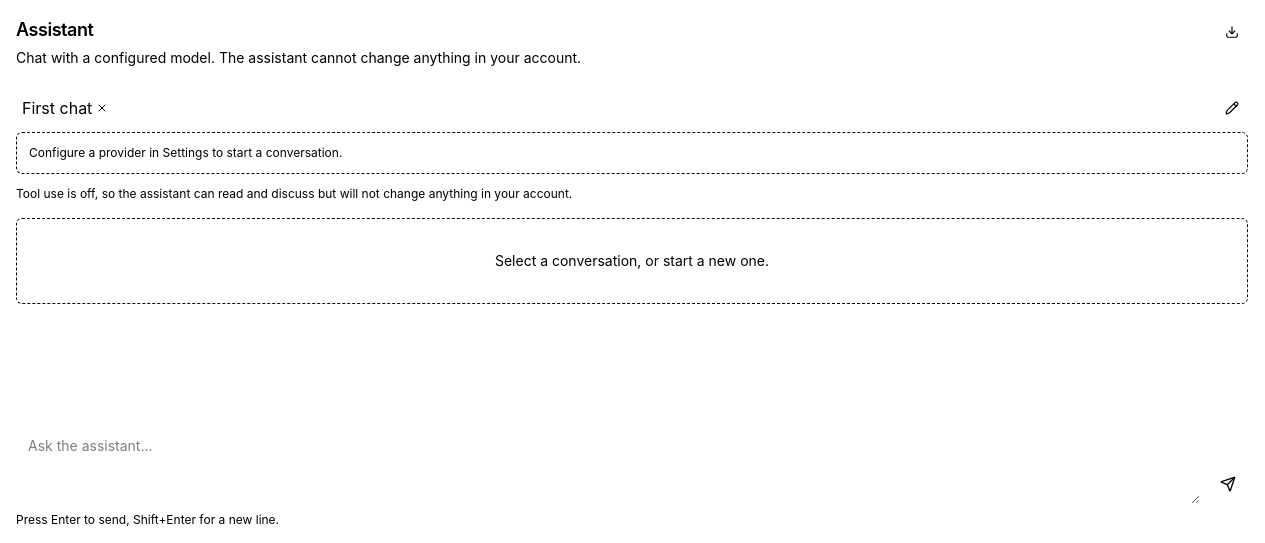
Test case: export offers the conversation as a file and reports the size ceiling
This screenshot has width=1265, height=543.
Click the button named "Export conversation". click: (1232,32)
box: [1216,16,1248,48]
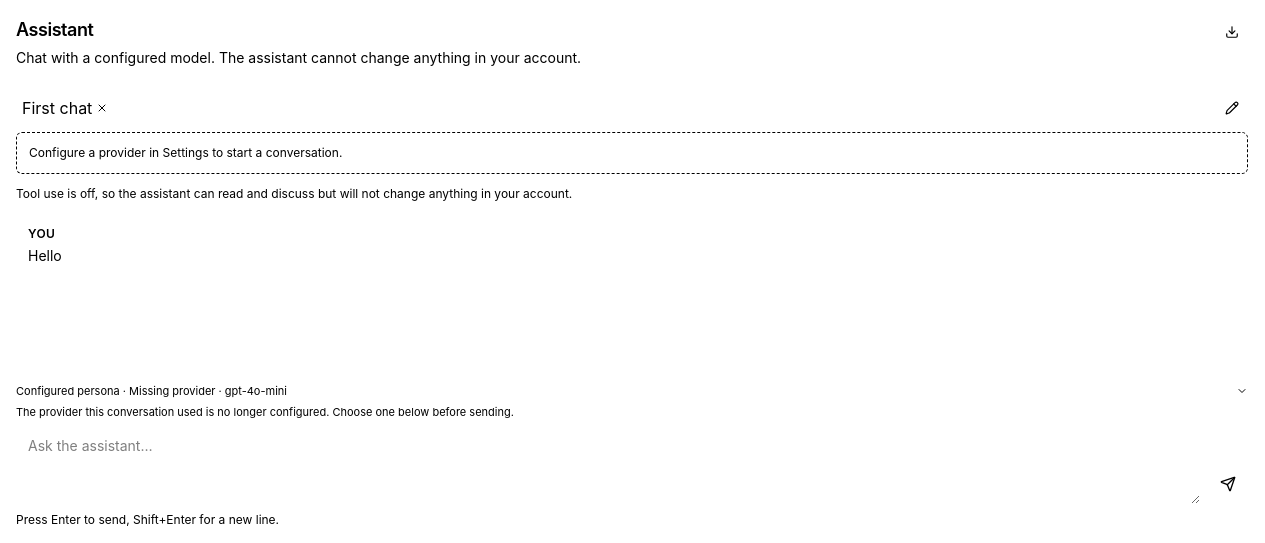
Click the button named "Export conversation". click: (1232,32)
box: [1216,16,1248,48]
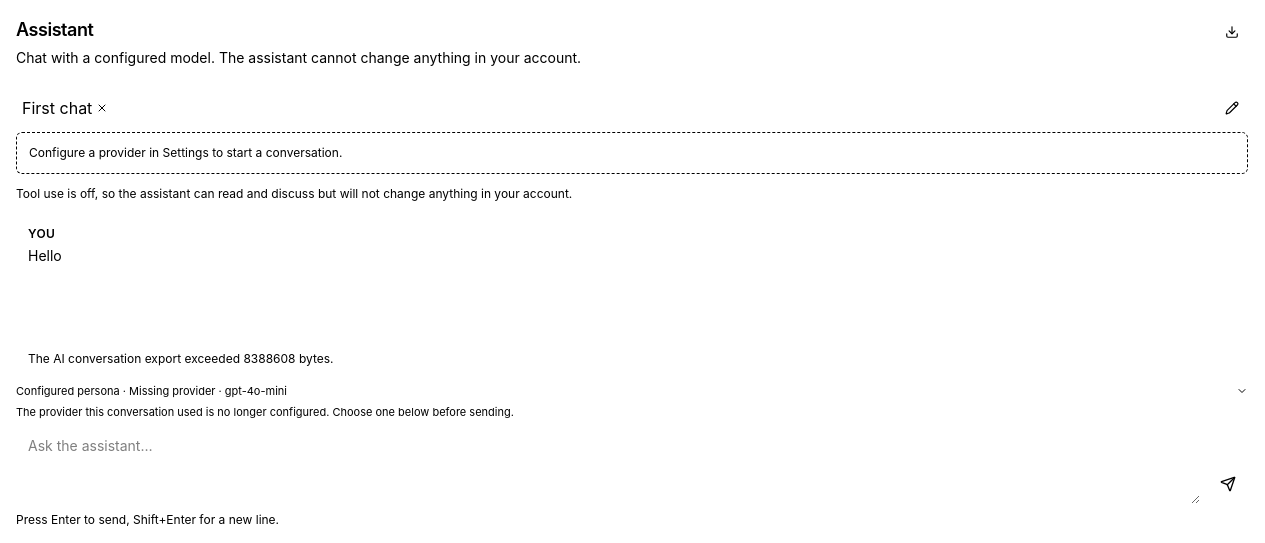
Expected: the text "The AI conversation export exceeded 8388608 bytes." is shown, [28,351,334,366]
